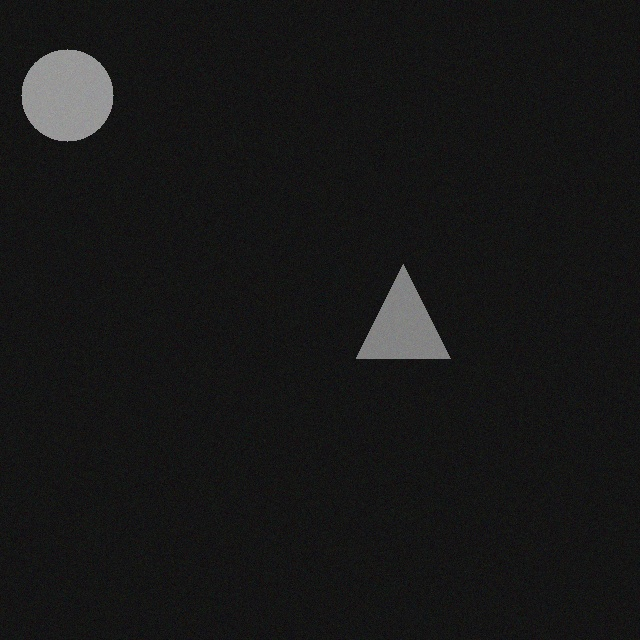circle: (32, 61, 124, 153)
triangle: (367, 276, 461, 370)
